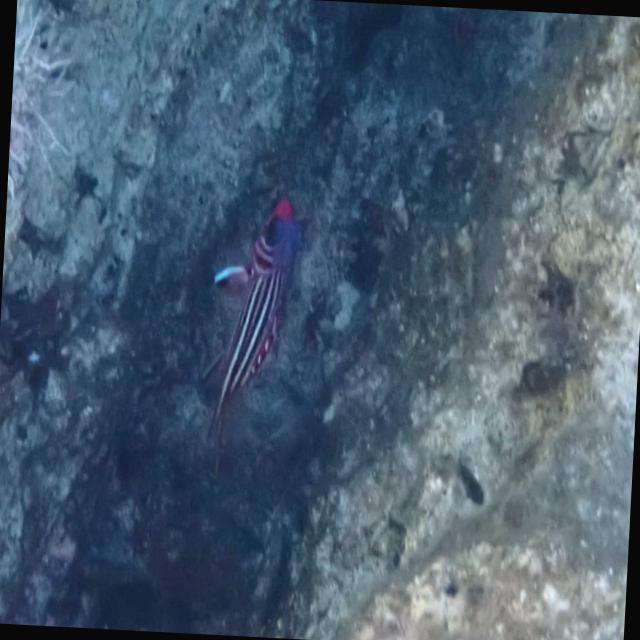Asker Baligi: (194, 178, 308, 480)
